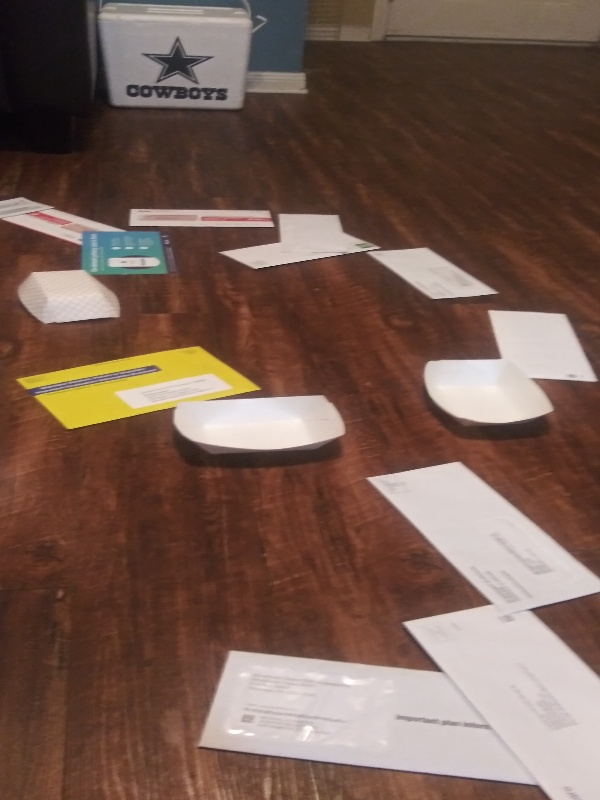plate: (166, 391, 351, 461), (420, 350, 557, 439), (13, 266, 124, 329)
